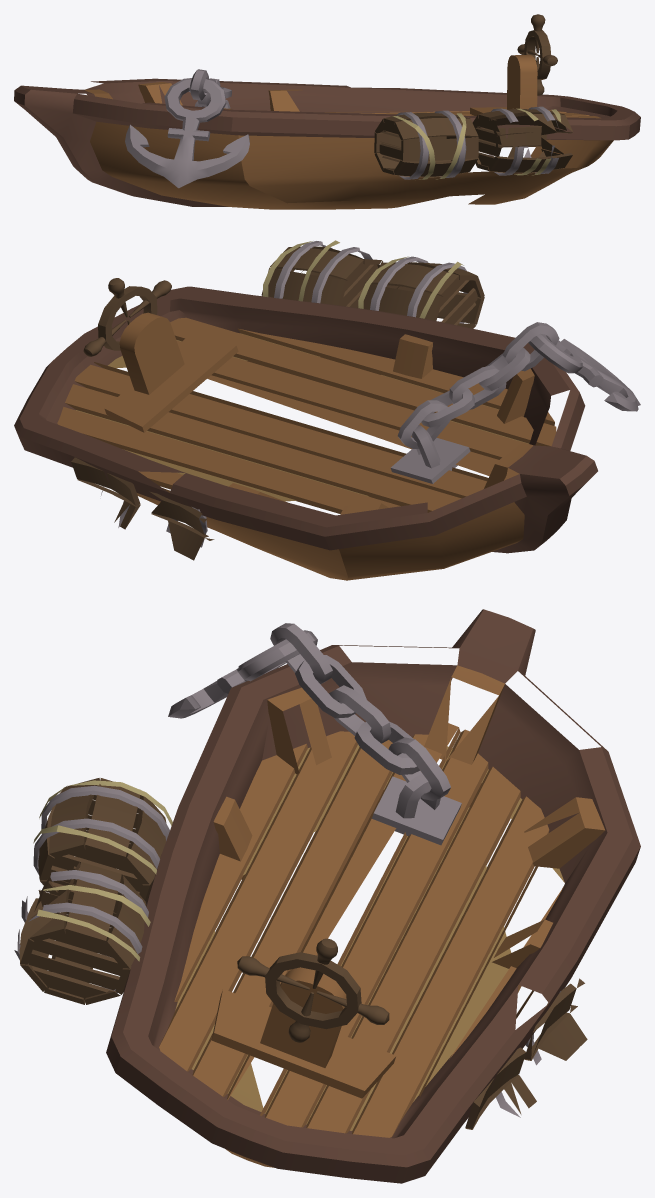
Rendered from ship.glb.
The picture shows the model from 3 angles, top to bottom: view 1: azimuth 30°, elevation 25°; view 2: azimuth 150°, elevation 25°; view 3: azimuth 270°, elevation 25°; orthographic projection. The views are drawn at different scales.
Parts seen in each view (by area): view 1: Ship_Small; view 2: Ship_Small; view 3: Ship_Small.
Boxes of the visible parts, bbox=[...] form: Ship_Small: bbox=[14, 14, 640, 209]; Ship_Small: bbox=[14, 240, 640, 580]; Ship_Small: bbox=[14, 609, 640, 1183].
Bounding box in the file's own units: 18.69 × 6.74 × 12.53.
Materials: 1 (1 with a texture image).
